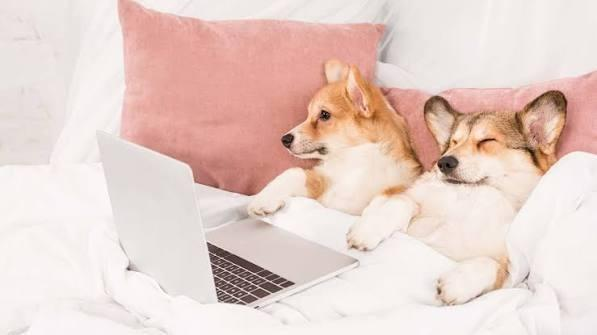adult_dog: (344, 88, 569, 306), (247, 57, 427, 215)
